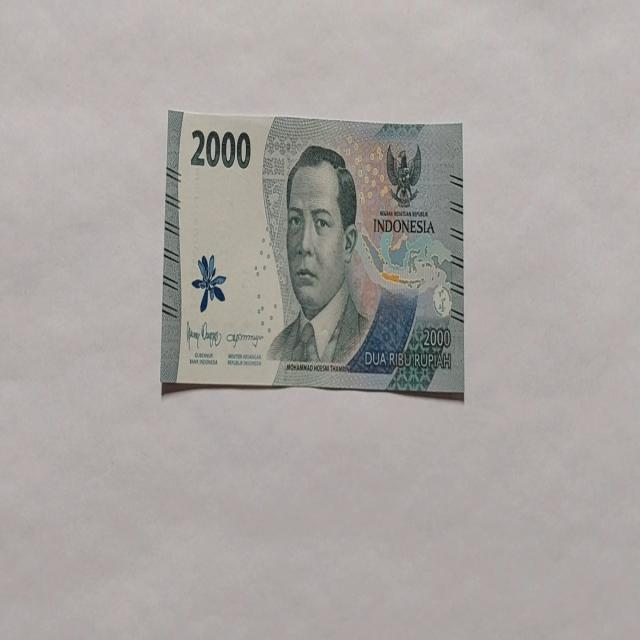dua ribu rupiah: (160, 109, 464, 398), (266, 143, 372, 373)
